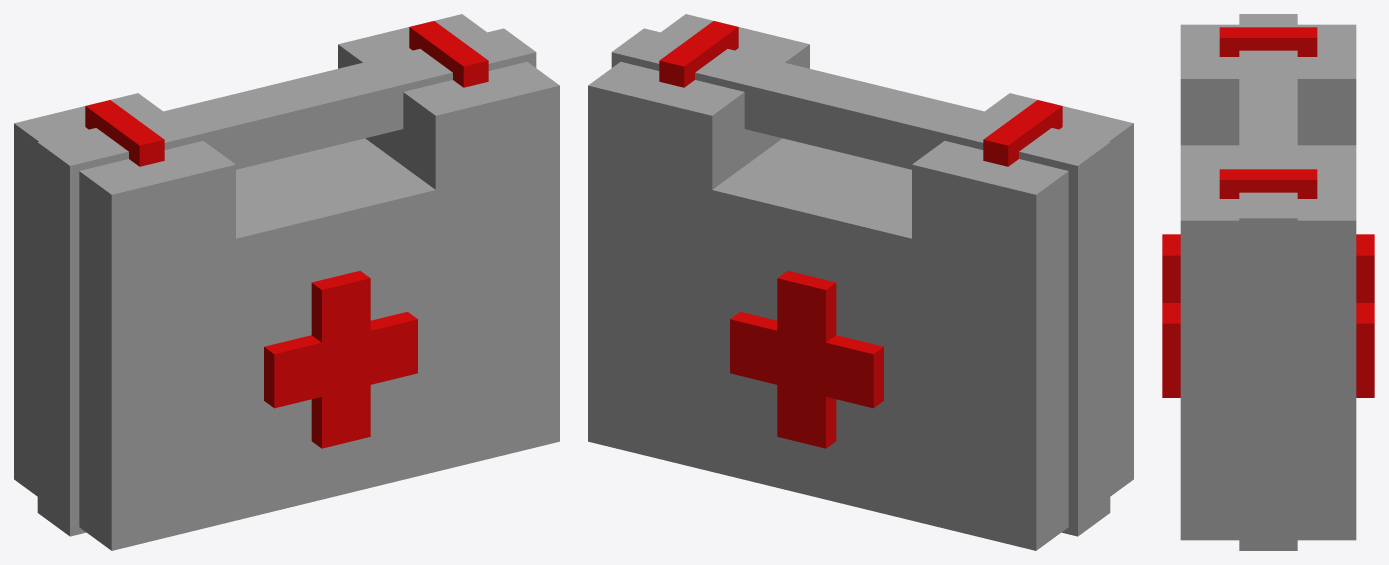
File: firstAidKit.fbx
3 views of the same model, side by side, from view 1: azimuth 30°, elevation 25°; view 2: azimuth 150°, elevation 25°; view 3: azimuth 270°, elevation 25° (orthographic). The views are drawn at different scales.
Parts seen in each view (by area): view 1: firstAidKit_GEO; view 2: firstAidKit_GEO; view 3: firstAidKit_GEO.
Part boxes in pixels (bbox=[...]): firstAidKit_GEO: bbox=[14, 14, 559, 550]; firstAidKit_GEO: bbox=[588, 14, 1133, 550]; firstAidKit_GEO: bbox=[1162, 14, 1374, 550].
Bounding box in the file's own units: 68.56 × 54.01 × 30.15.
